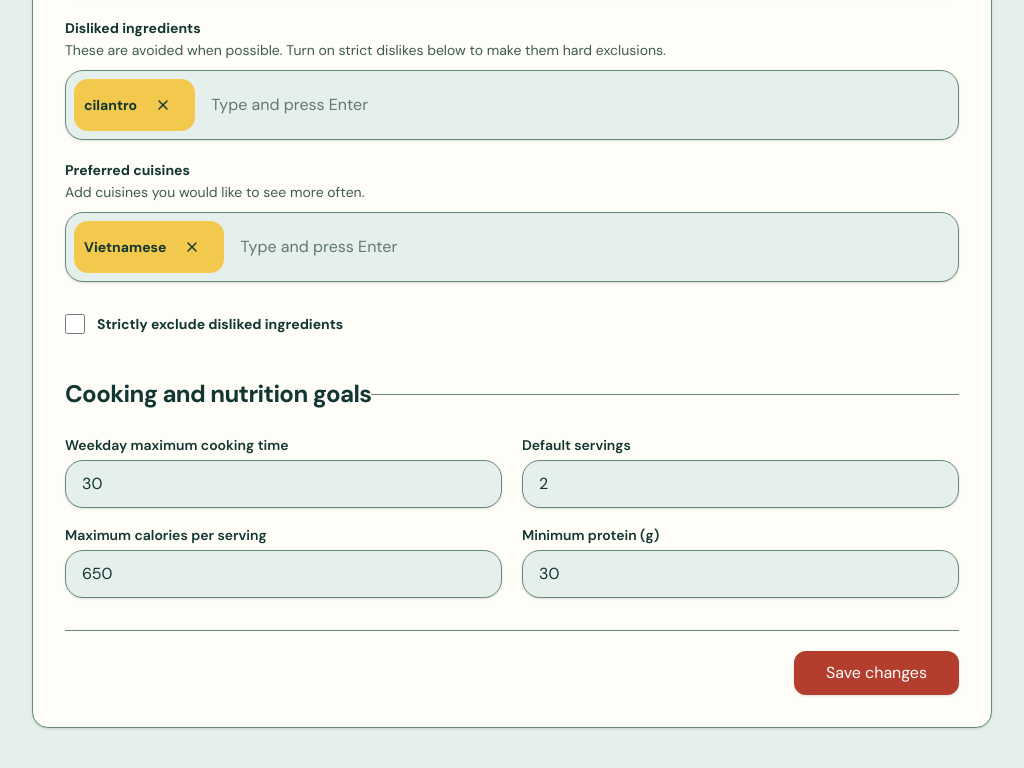
Test: FoodPreferencesPage › blocks saving invalid numeric values and describes the field error
(page scrolled)
Replace the text in the number field labelled "Default servings" with "25": {"x": 740, "y": 484} 522,460 -> 959,508
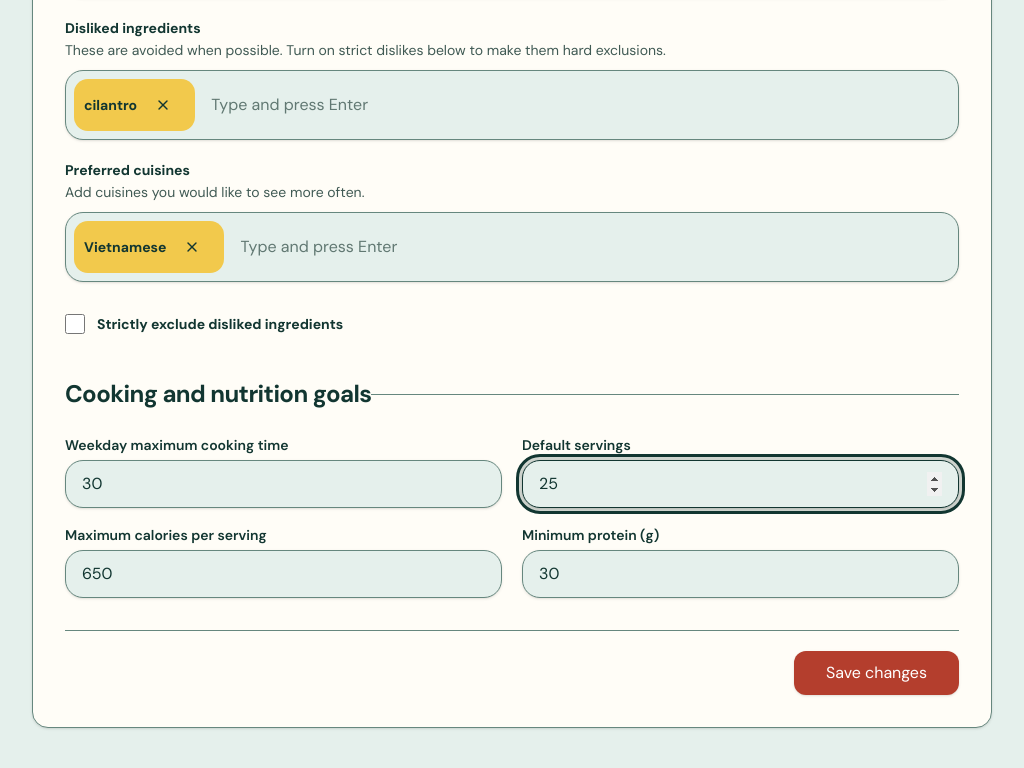
Click the button "Save changes": {"x": 876, "y": 673} 794,651 -> 959,695
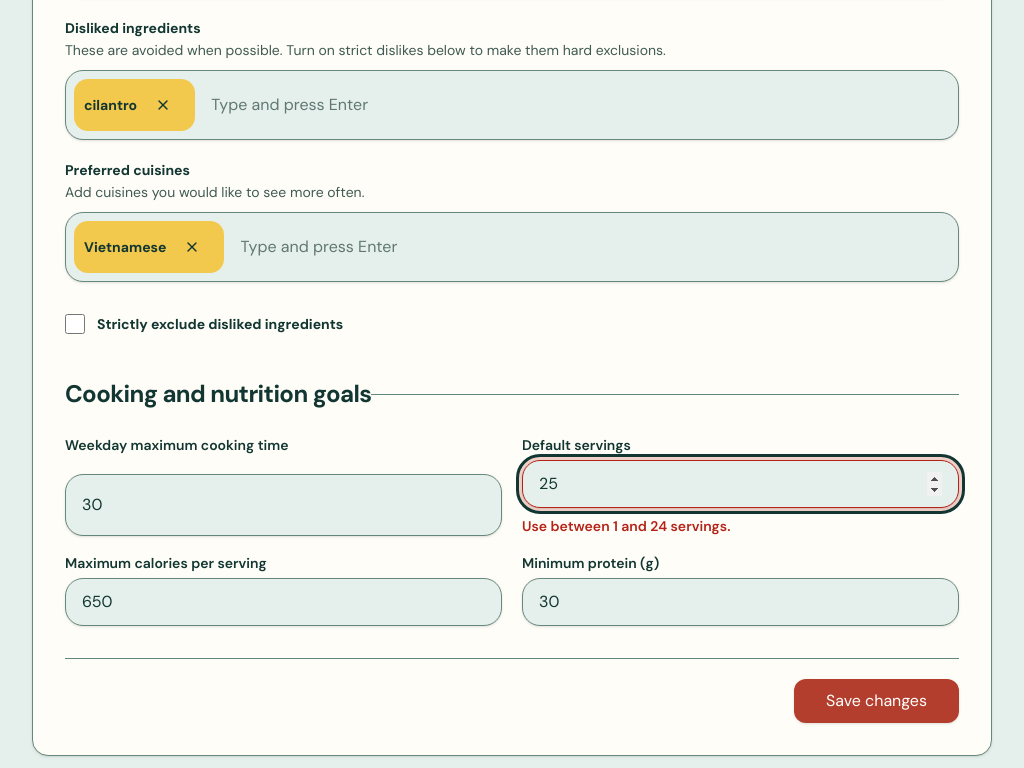
Expected: the text "Use between 1 and 24 servings." is shown, 522,517 -> 730,535
